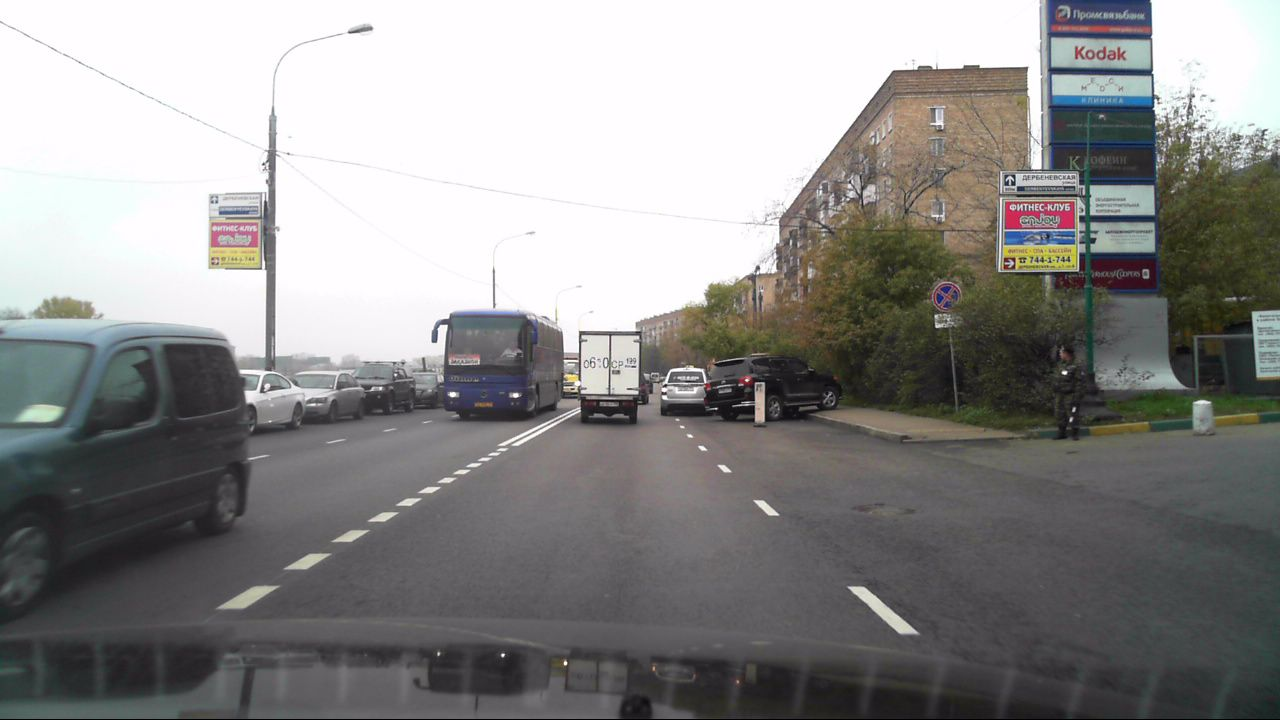No Parking: (931, 280, 960, 312)
